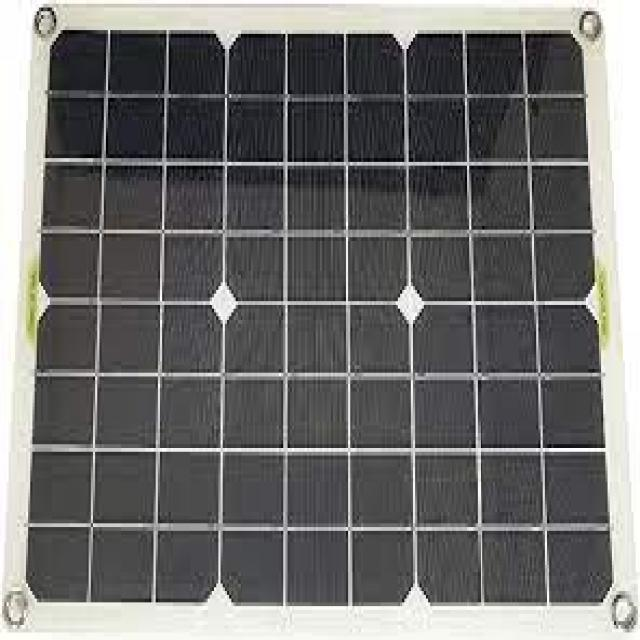no faulty: (48, 31, 602, 607)
